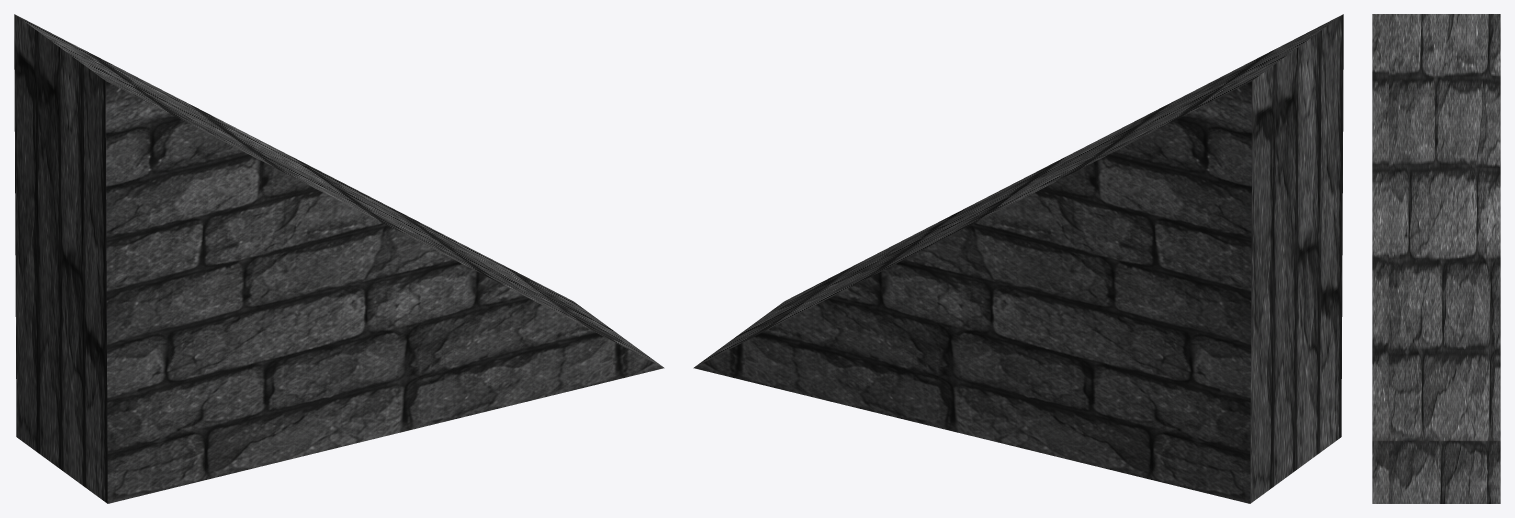
File: halfwall30.glb
The picture shows the model from 3 angles, left to right: view 1: azimuth 30°, elevation 25°; view 2: azimuth 150°, elevation 25°; view 3: azimuth 270°, elevation 25°; orthographic projection. The views are drawn at different scales.
Parts seen in each view (by area): view 1: Plane.001; view 2: Plane.001; view 3: Plane.001.
Boxes of the visible parts, x1,y1,x2,y2 form: Plane.001: (14,14,664,503); Plane.001: (693,14,1343,503); Plane.001: (1372,14,1500,503).
Size of the model in its own units: 0.6405 by 0.4637 by 0.1812.
Materials: 1 (1 with a texture image).
